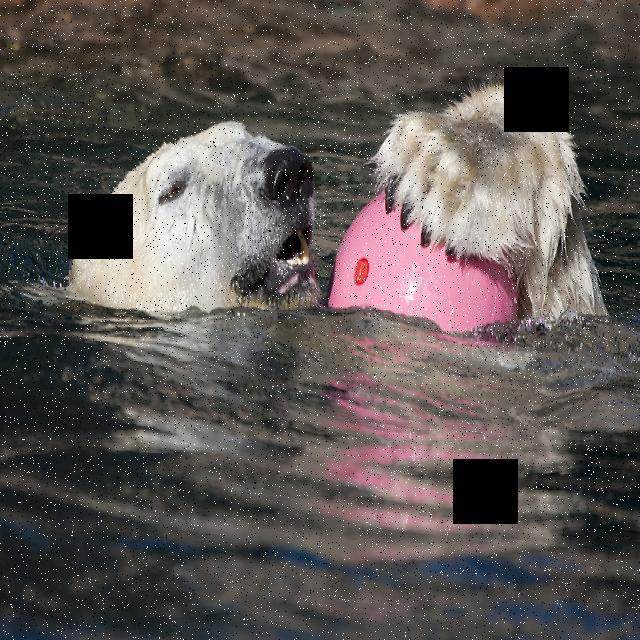Bear: (19, 77, 611, 374)
